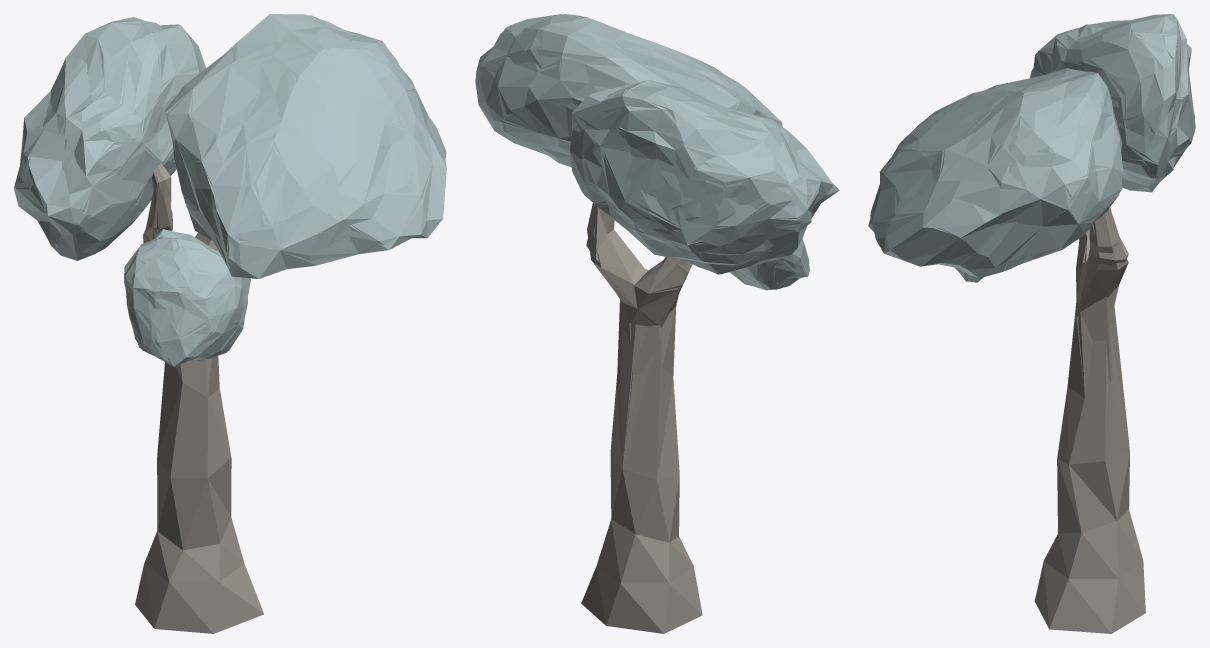
The model's file is Tree_05.fbx.
3 views of the same model, side by side, from view 1: azimuth 30°, elevation 25°; view 2: azimuth 150°, elevation 25°; view 3: azimuth 270°, elevation 25° (orthographic). The views are drawn at different scales.
Parts seen in each view (by area): view 1: Tree_05_0 L, Tree_05_1 L; view 2: Tree_05_0 L, Tree_05_1 L; view 3: Tree_05_0 L, Tree_05_1 L.
Boxes of the visible parts, left/top/right/bottom form: Tree_05_0 L: left=14, top=14, right=446, bottom=633; Tree_05_1 L: left=14, top=14, right=445, bottom=455; Tree_05_0 L: left=476, top=14, right=839, bottom=633; Tree_05_1 L: left=475, top=14, right=838, bottom=479; Tree_05_0 L: left=870, top=14, right=1194, bottom=633; Tree_05_1 L: left=868, top=14, right=1195, bottom=460.
Size of the model in its own units: 823 by 1251 by 651.
